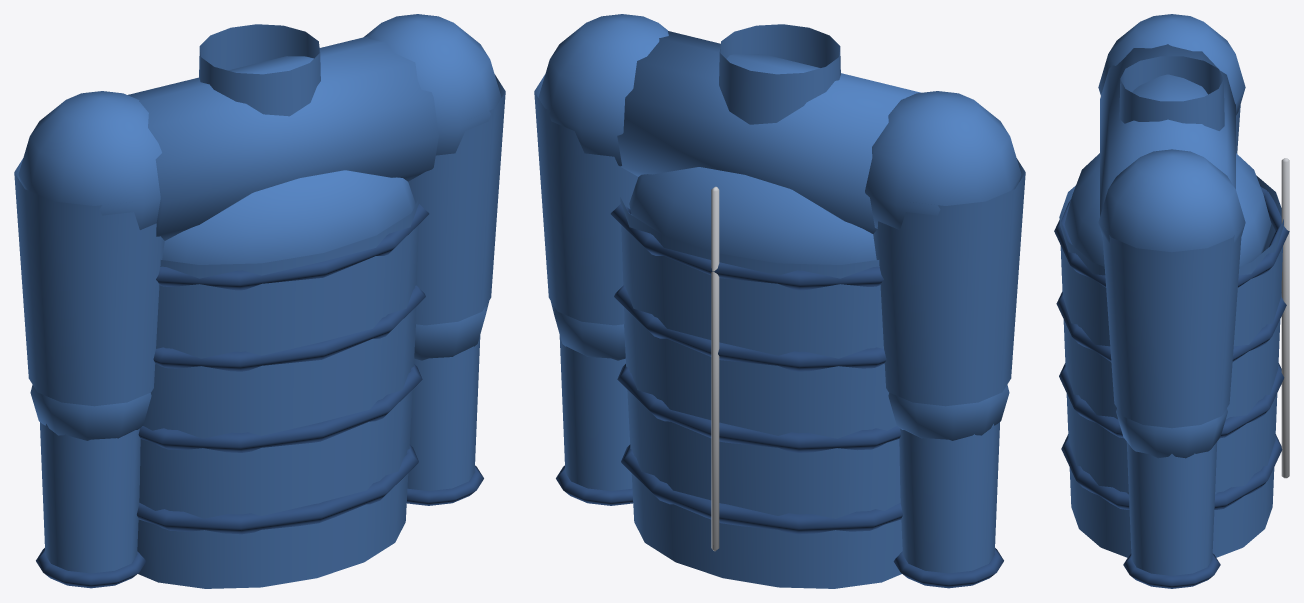
The model's file is top_puffer.glb.
The picture shows the model from 3 angles, left to right: view 1: azimuth 30°, elevation 25°; view 2: azimuth 150°, elevation 25°; view 3: azimuth 270°, elevation 25°; orthographic projection. The views are drawn at different scales.
Visible parts, largest first — view 1: Body, ArmL, ArmR, ForeArmL, ForeArmR; view 2: Body, ArmL, ArmR, ForeArmL, ForeArmR; view 3: Body, ArmR, ForeArmR, ArmL.
Boxes of the visible parts, x1=… form: Body: x1=128, y1=24, x2=438, y2=588; ArmL: x1=14, y1=91, x2=164, y2=440; ArmR: x1=364, y1=14, x2=505, y2=360; ForeArmL: x1=36, y1=422, x2=146, y2=588; ForeArmR: x1=406, y1=335, x2=483, y2=505; Body: x1=610, y1=24, x2=920, y2=588; ArmL: x1=865, y1=91, x2=1025, y2=440; ArmR: x1=534, y1=14, x2=668, y2=360; ForeArmL: x1=893, y1=422, x2=1003, y2=588; ForeArmR: x1=556, y1=335, x2=633, y2=505; Body: x1=1054, y1=44, x2=1289, y2=557; ArmR: x1=1098, y1=149, x2=1245, y2=458; ForeArmR: x1=1123, y1=442, x2=1220, y2=588; ArmL: x1=1098, y1=14, x2=1245, y2=153.
Size of the model in its own units: 0.596 by 0.59 by 0.2945.
